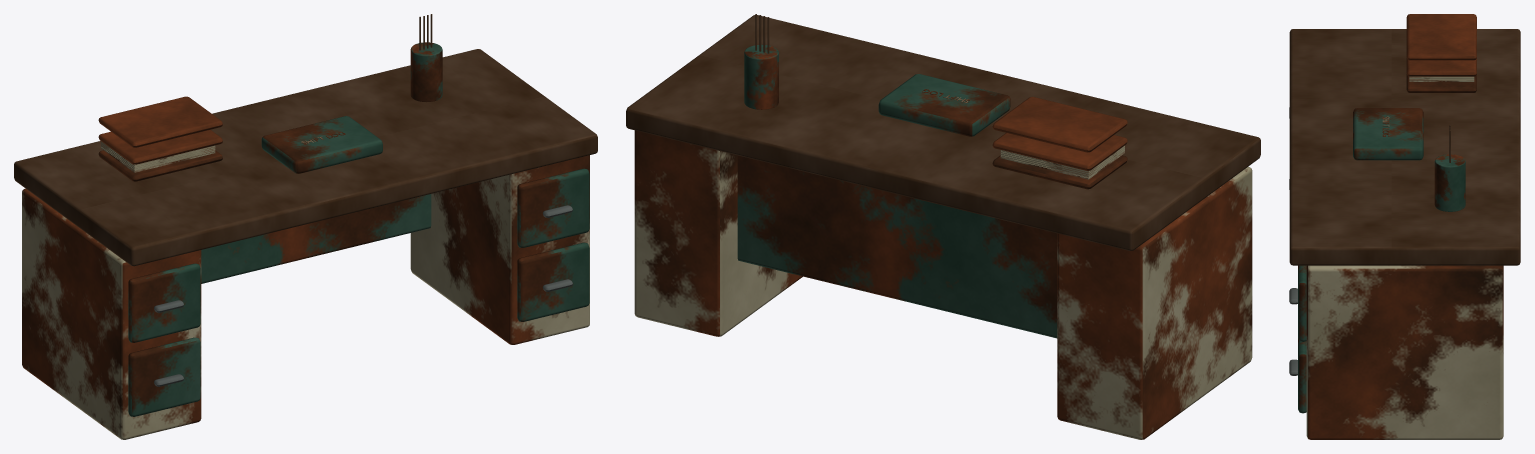
The model's file is office_desk.glb.
3 views of the same model, side by side, from view 1: azimuth 30°, elevation 25°; view 2: azimuth 150°, elevation 25°; view 3: azimuth 270°, elevation 25° (orthographic). The views are drawn at different scales.
Visible parts, largest first — view 1: Worn office desktop, Desk pedestal, Desk pedestal.001, Modesty panel, Drawer front, Drawer front.001, Drawer front.002, Drawer front.003, Closed logbook, Filing tray.002, Filing tray.001, Pencil cup (+1 smaller); view 2: Worn office desktop, Desk pedestal, Modesty panel, Desk pedestal.001, Closed logbook, Filing tray.002, Filing tray.001, Pencil cup, Filing tray; view 3: Worn office desktop, Desk pedestal.001, Closed logbook, Filing tray.002, Pencil cup, Filing tray.001, Filing tray, Drawer front.003, Drawer front.002.
Part boxes in pixels (x1=…): Worn office desktop: x1=14, y1=49, x2=597, y2=266; Desk pedestal: x1=22, y1=188, x2=201, y2=439; Desk pedestal.001: x1=410, y1=155, x2=589, y2=344; Modesty panel: x1=201, y1=194, x2=431, y2=283; Drawer front: x1=128, y1=337, x2=200, y2=416; Drawer front.001: x1=128, y1=263, x2=200, y2=342; Drawer front.002: x1=517, y1=242, x2=589, y2=321; Drawer front.003: x1=517, y1=168, x2=589, y2=247; Closed logbook: x1=261, y1=116, x2=382, y2=173; Filing tray.002: x1=98, y1=96, x2=222, y2=147; Filing tray.001: x1=98, y1=129, x2=222, y2=164; Pencil cup: x1=410, y1=42, x2=442, y2=101; Worn office desktop: x1=626, y1=15, x2=1260, y2=250; Desk pedestal: x1=1057, y1=166, x2=1252, y2=439; Modesty panel: x1=737, y1=155, x2=1057, y2=338; Desk pedestal.001: x1=634, y1=130, x2=802, y2=336; Closed logbook: x1=878, y1=74, x2=1010, y2=136; Filing tray.002: x1=992, y1=96, x2=1127, y2=152; Filing tray.001: x1=992, y1=133, x2=1127, y2=170; Pencil cup: x1=744, y1=44, x2=778, y2=109; Filing tray: x1=992, y1=155, x2=1127, y2=189; Worn office desktop: x1=1289, y1=29, x2=1520, y2=265; Desk pedestal.001: x1=1306, y1=265, x2=1503, y2=439; Closed logbook: x1=1353, y1=108, x2=1423, y2=160; Filing tray.002: x1=1406, y1=14, x2=1476, y2=60; Pencil cup: x1=1434, y1=154, x2=1465, y2=211; Filing tray.001: x1=1406, y1=58, x2=1476, y2=76; Filing tray: x1=1406, y1=74, x2=1476, y2=92; Drawer front.003: x1=1298, y1=265, x2=1306, y2=341; Drawer front.002: x1=1298, y1=338, x2=1306, y2=413.
Size of the model in its own units: 1.86 by 1.06 by 0.8215.
Materials: 5 (5 with a texture image).
